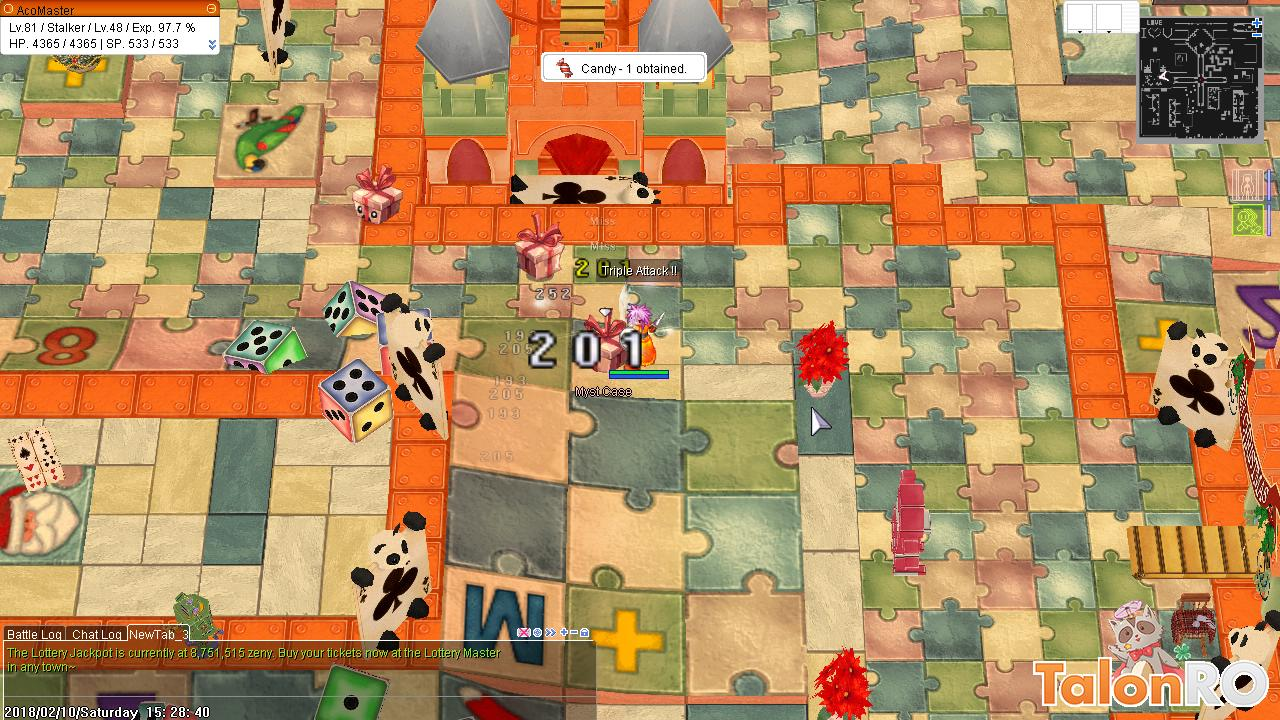myst_case: (512, 210, 566, 284), (348, 164, 408, 229), (579, 304, 625, 377)
